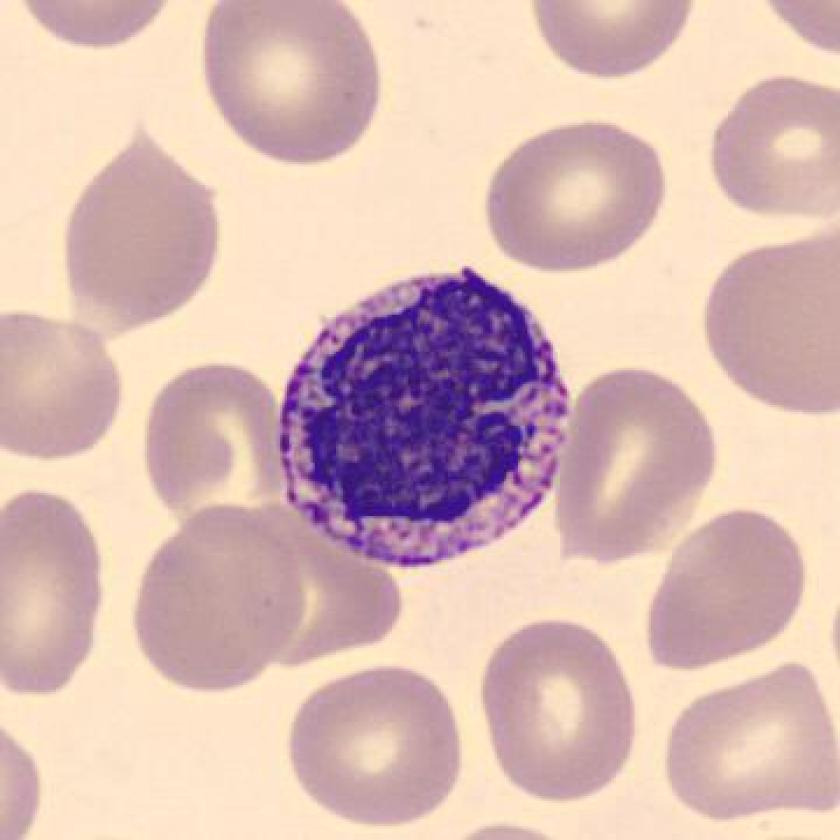basophil: (265, 263, 573, 577)
